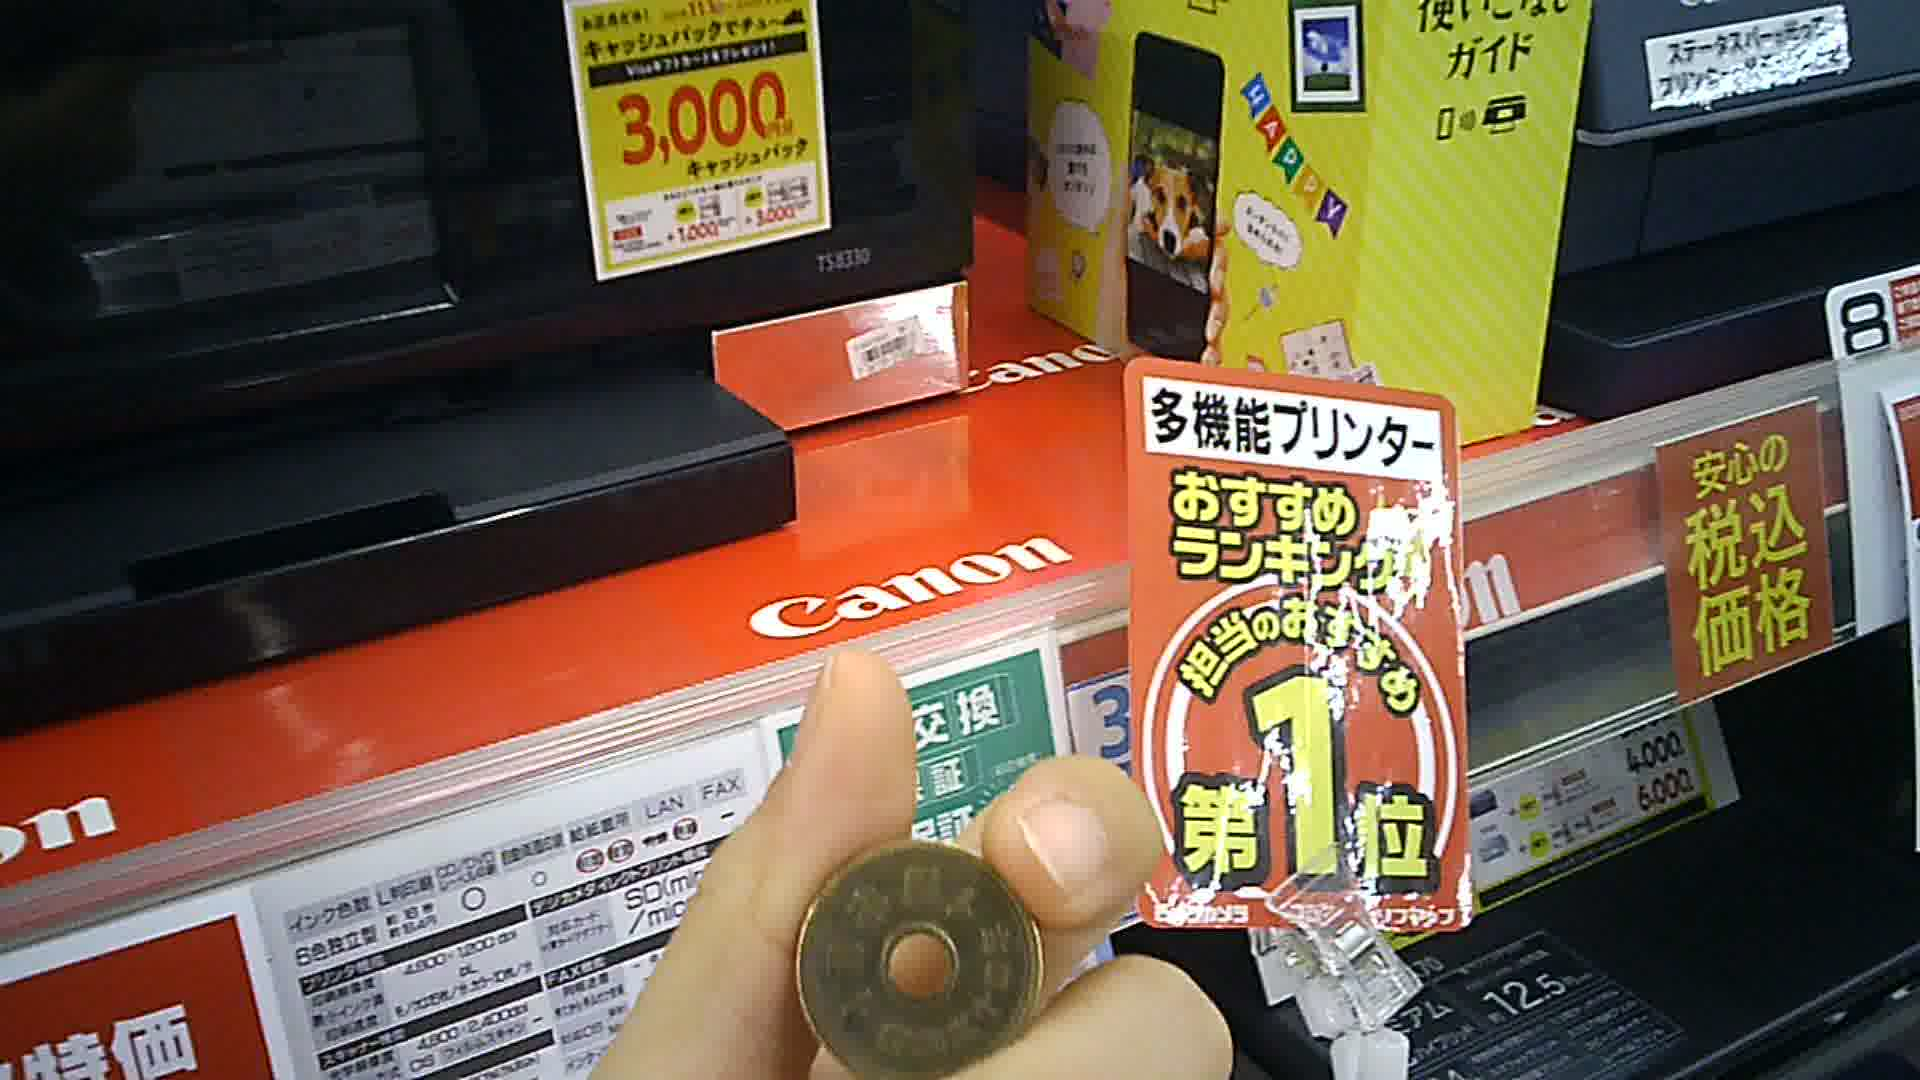5 Yen: (791, 837, 1047, 1079)
